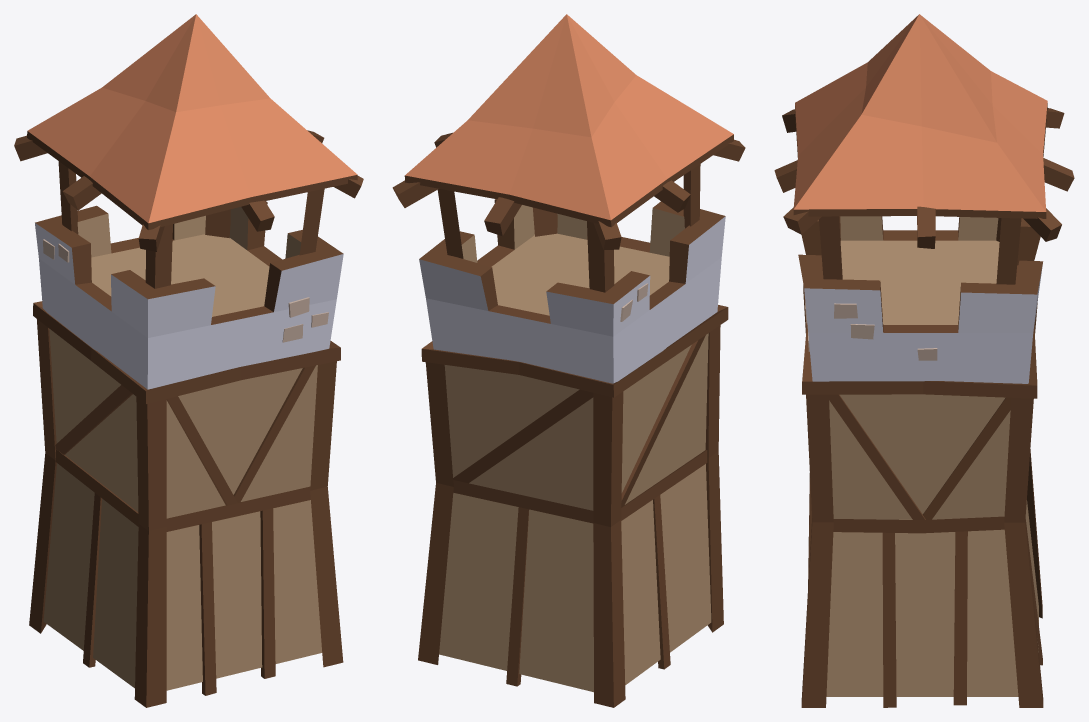
3 views of the same model, side by side, from view 1: azimuth 30°, elevation 25°; view 2: azimuth 150°, elevation 25°; view 3: azimuth 270°, elevation 25° (orthographic). The views are drawn at different scales.
Visible parts, largest first — view 1: gtmfc_tower; view 2: gtmfc_tower; view 3: gtmfc_tower.
Part boxes in pixels (<box>): gtmfc_tower: <box>14,14,363,707</box>; gtmfc_tower: <box>392,14,745,707</box>; gtmfc_tower: <box>774,14,1074,707</box>.
Bounding box in the file's own units: 2.68 × 6.39 × 2.67.
Materials: 1 (1 with a texture image).
